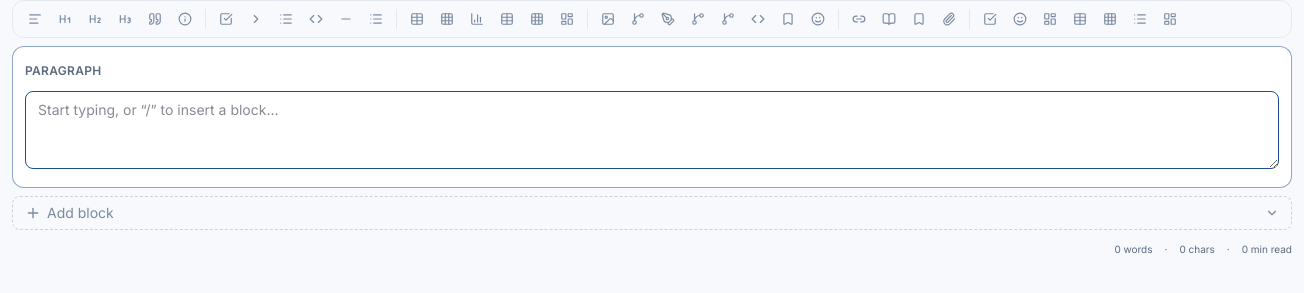
it: BlockEditor — Know Studio blocks › opens a "/" slash menu and replaces the paragraph with the picked block type
In the text box named "Paragraph content": x=652, y=130 [25,91,1279,169], type "/callout"
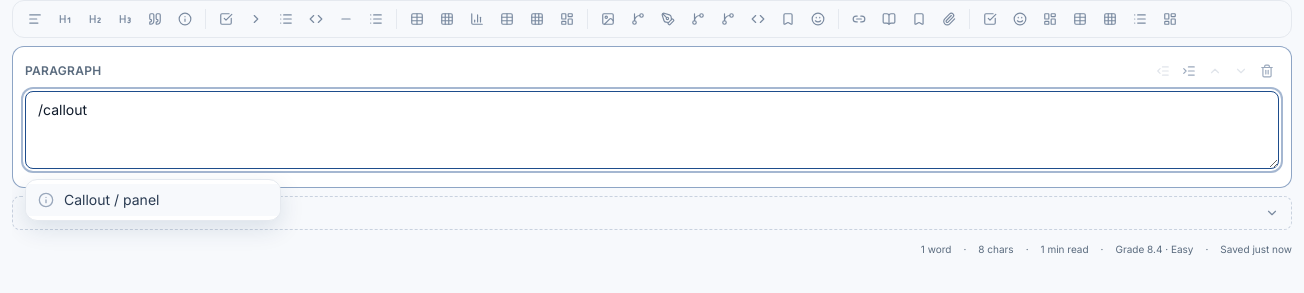
Click the option "Callout / panel": x=153, y=200 [26,184,280,216]
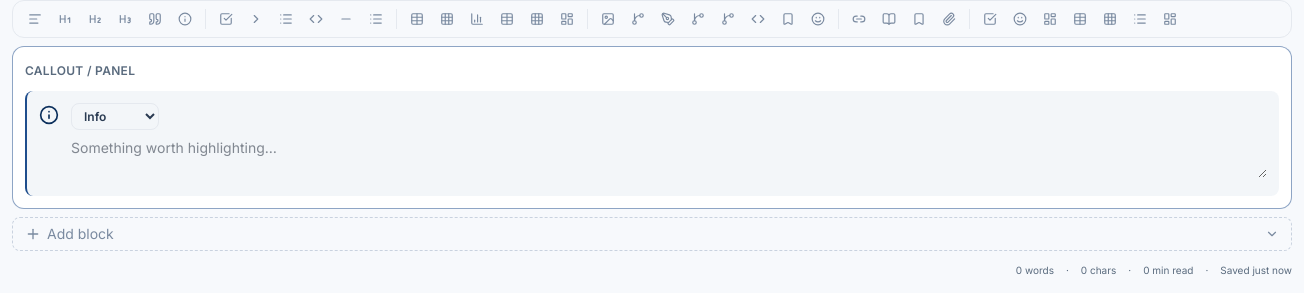
Check: the text box named "Callout text" is shown, box [71,138,1267,178]
